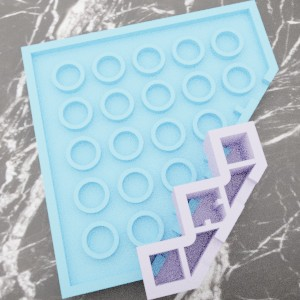lego: (21, 0, 278, 298), (136, 121, 267, 299)
